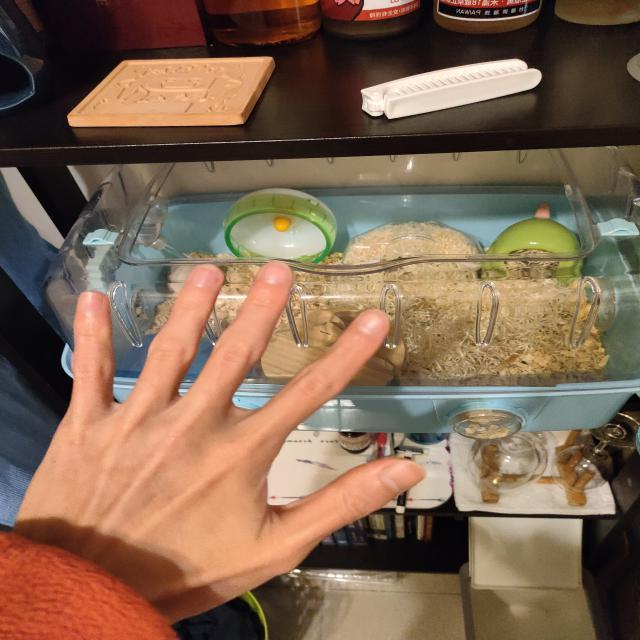hand: (0, 251, 441, 640)
